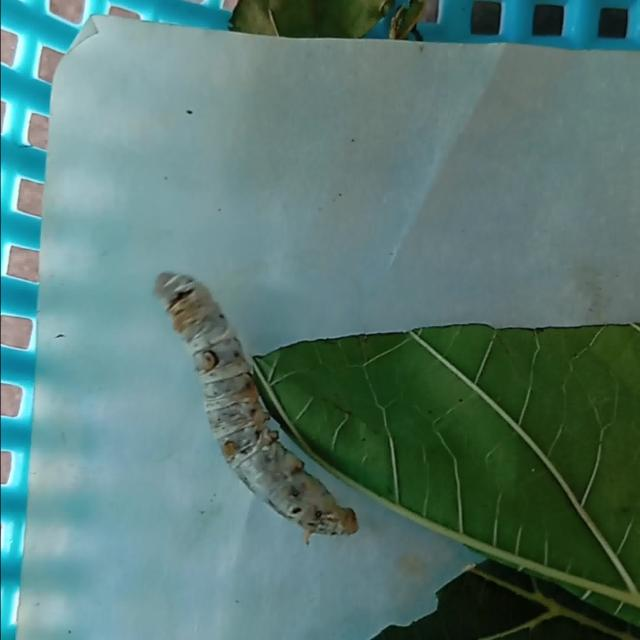Grasserie: (134, 245, 406, 565)
